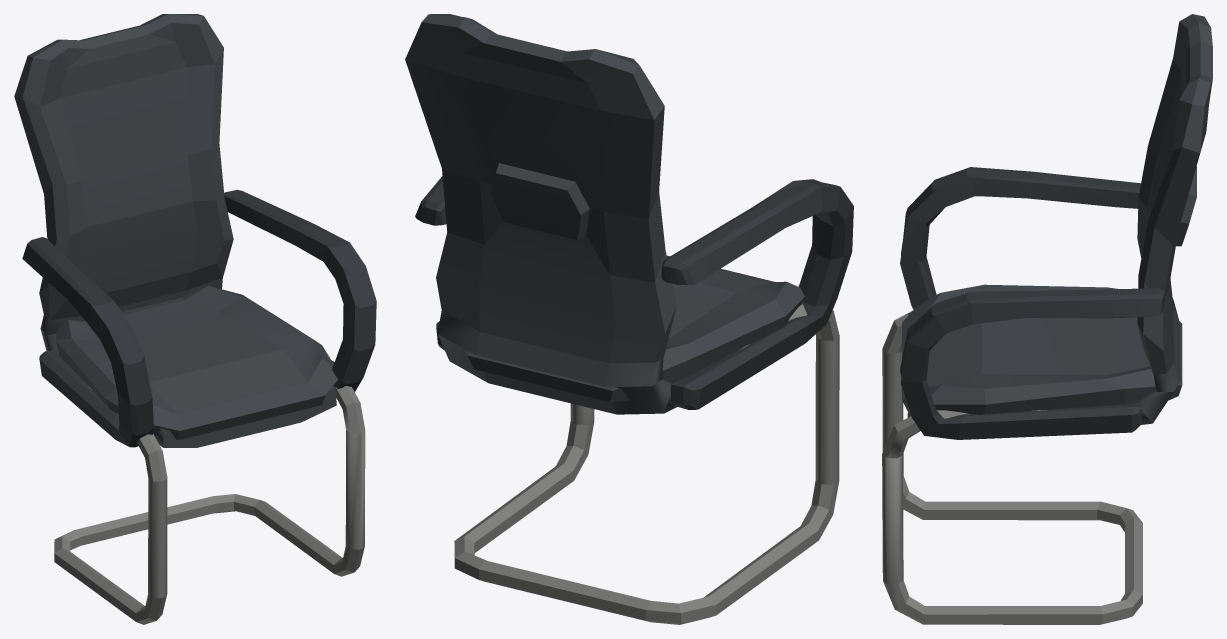
File: SM_Prop_TeacherChair.fbx
The picture shows the model from 3 angles, left to right: view 1: azimuth 30°, elevation 25°; view 2: azimuth 150°, elevation 25°; view 3: azimuth 270°, elevation 25°; orthographic projection. The views are drawn at different scales.
Parts seen in each view (by area): view 1: SM_Prop_TeacherChair; view 2: SM_Prop_TeacherChair; view 3: SM_Prop_TeacherChair.
Boxes of the visible parts, x1,y1,x2,y2 form: SM_Prop_TeacherChair: (14,14,376,624); SM_Prop_TeacherChair: (405,14,853,624); SM_Prop_TeacherChair: (882,14,1212,624).
Size of the model in its own units: 66.65 by 116 by 66.55.
Materials: 2 (2 with a texture image).
